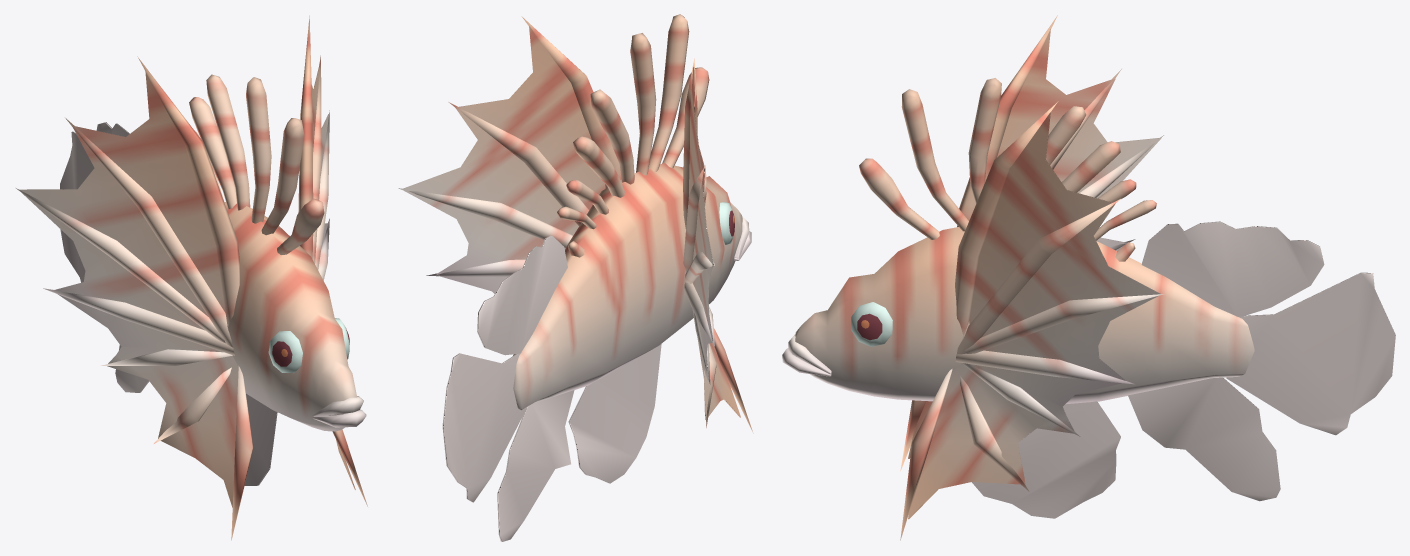
3 views of the same model, side by side, from view 1: azimuth 30°, elevation 25°; view 2: azimuth 150°, elevation 25°; view 3: azimuth 270°, elevation 25° (orthographic). The views are drawn at different scales.
Visible parts, largest first — view 1: Fish_ZebraTurkeyFish; view 2: Fish_ZebraTurkeyFish; view 3: Fish_ZebraTurkeyFish.
Boxes of the visible parts, <box> form: Fish_ZebraTurkeyFish: <box>16,15,367,540</box>; Fish_ZebraTurkeyFish: <box>398,14,753,541</box>; Fish_ZebraTurkeyFish: <box>782,15,1395,540</box>.
Bounding box in the file's own units: 27.06 × 36.47 × 44.03.
